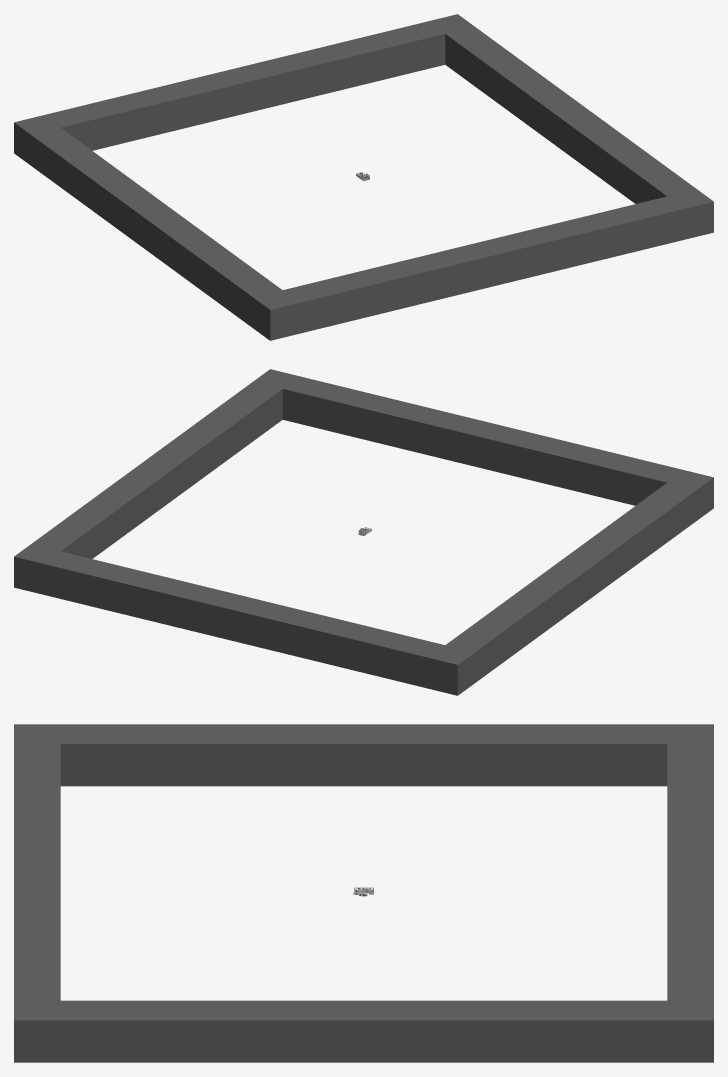
Rendered from 4Bedroom.glb.
The picture shows the model from 3 angles, top to bottom: view 1: azimuth 30°, elevation 25°; view 2: azimuth 150°, elevation 25°; view 3: azimuth 270°, elevation 25°; orthographic projection. The views are drawn at different scales.
Visible parts, largest first — view 1: Object097_Material #2146779761_0; view 2: Object097_Material #2146779761_0; view 3: Object097_Material #2146779761_0.
Part boxes in pixels (left/top/right/bottom): Object097_Material #2146779761_0: left=14, top=14, right=713, bottom=340; Object097_Material #2146779761_0: left=14, top=369, right=713, bottom=695; Object097_Material #2146779761_0: left=14, top=724, right=713, bottom=1062.
Bounding box in the file's own units: 600 × 40 × 600.
Materials: 24 (10 with a texture image).
